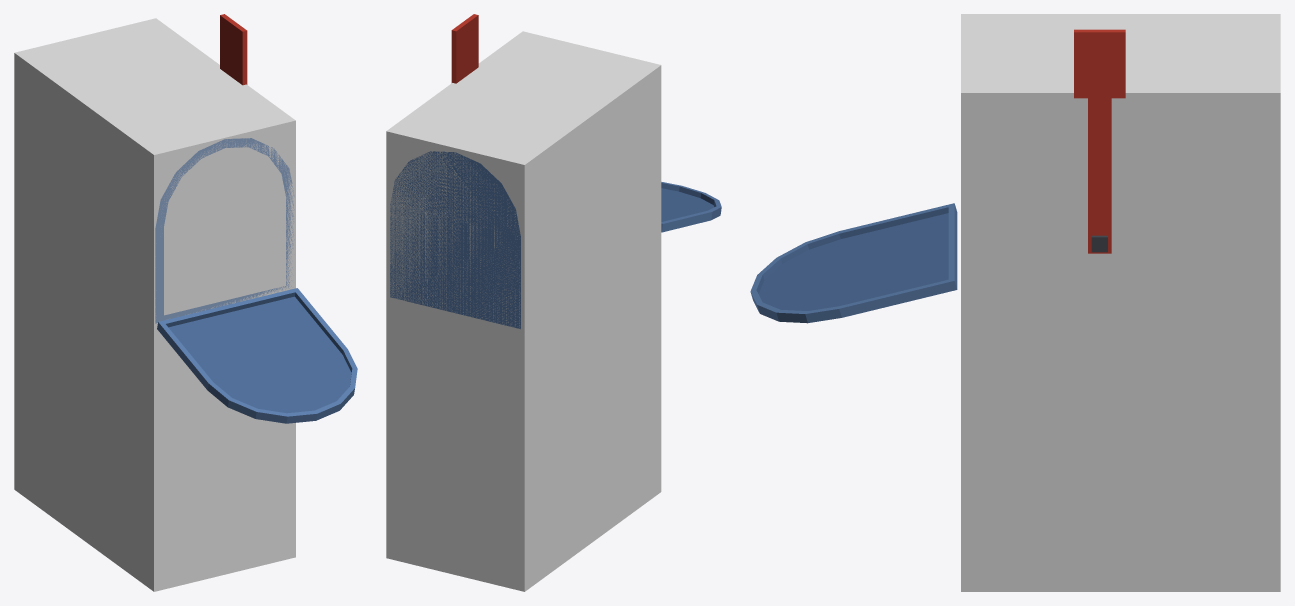
The model's file is FMS_Mailbox_Metal.fbx.
3 views of the same model, side by side, from view 1: azimuth 30°, elevation 25°; view 2: azimuth 150°, elevation 25°; view 3: azimuth 270°, elevation 25° (orthographic). The views are drawn at different scales.
Parts seen in each view (by area): view 1: FMS_Mailbox_Metal_Col, FMS_Mailbox_Metal_Door, FMS_Mailbox_Metal_LOD0, FMS_Mailbox_Metal_Flag; view 2: FMS_Mailbox_Metal_Col, FMS_Mailbox_Metal_LOD0, FMS_Mailbox_Metal_Door, FMS_Mailbox_Metal_Flag; view 3: FMS_Mailbox_Metal_Col, FMS_Mailbox_Metal_Door, FMS_Mailbox_Metal_Flag.
Part boxes in pixels (x1=…): FMS_Mailbox_Metal_Col: x1=14, y1=18, x2=295, y2=591; FMS_Mailbox_Metal_Door: x1=157, y1=288, x2=357, y2=423; FMS_Mailbox_Metal_LOD0: x1=155, y1=138, x2=294, y2=323; FMS_Mailbox_Metal_Flag: x1=220, y1=14, x2=247, y2=85; FMS_Mailbox_Metal_Col: x1=386, y1=31, x2=661, y2=591; FMS_Mailbox_Metal_LOD0: x1=390, y1=151, x2=520, y2=329; FMS_Mailbox_Metal_Door: x1=661, y1=182, x2=721, y2=232; FMS_Mailbox_Metal_Flag: x1=451, y1=14, x2=478, y2=83; FMS_Mailbox_Metal_Col: x1=961, y1=14, x2=1280, y2=591; FMS_Mailbox_Metal_Door: x1=750, y1=203, x2=957, y2=323; FMS_Mailbox_Metal_Flag: x1=1074, y1=29, x2=1125, y2=253.
Size of what is drawn, in the model's own units: 0.37 by 1.19 by 1.02.
1 material, 1 textured.
